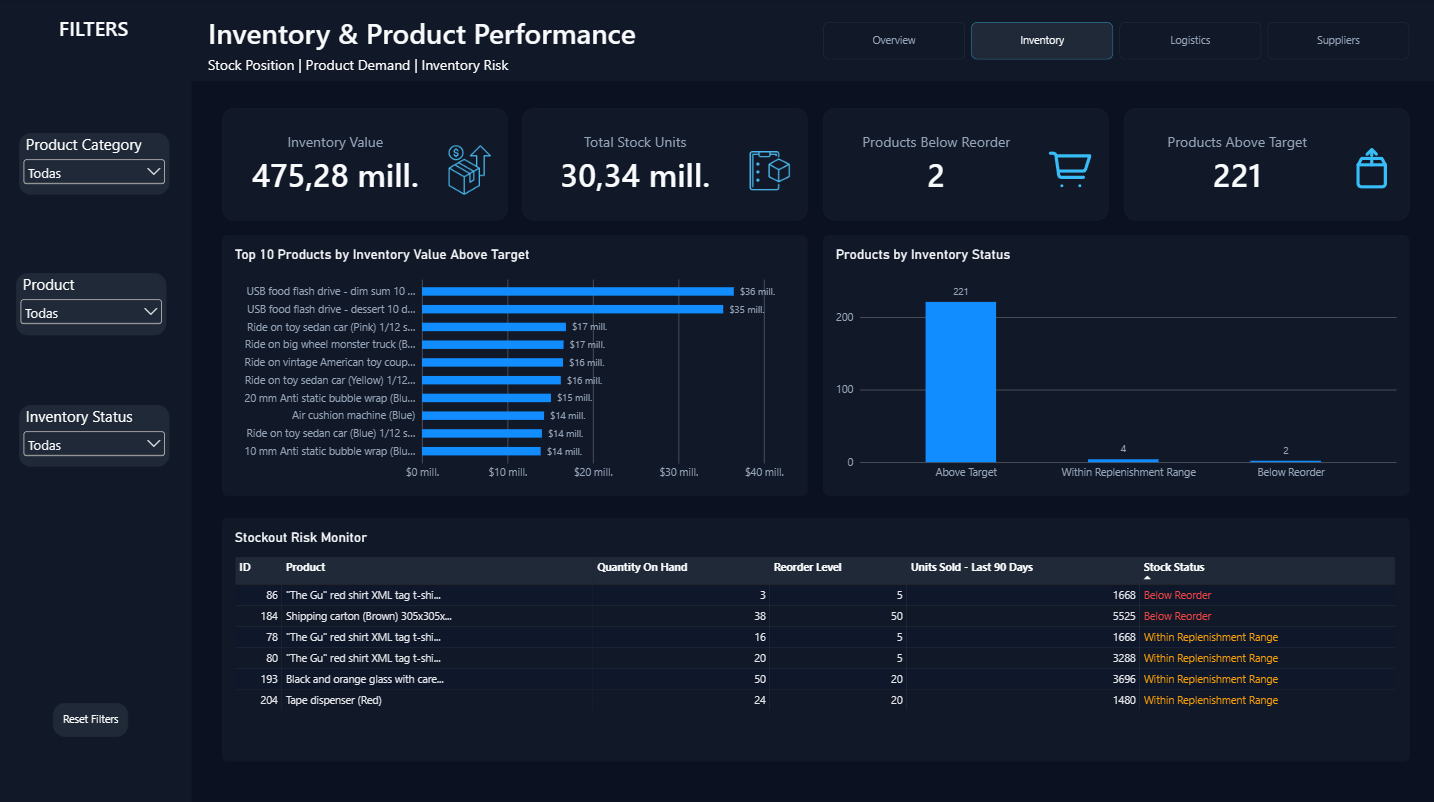

This screenshot's page, from the dashboard's own definition file:
{"tool":"powerbi","page":{"name":"Inventory","canvas":[1920,1080],"ordinal":1},"visuals":[{"type":"shape","box":[250.9,0,1669.1,109.1],"z":0},{"type":"textbox","box":[281.6,19.5,1079.8,55.4],"z":1000},{"type":"textbox","box":[281.6,74.9,1079.8,34.4],"z":2000},{"type":"shape","box":[0,1.5,260,1079],"z":3000},{"type":"textbox","box":[0,1.4,260,107.1],"z":4000},{"type":"slicer","fields":{"Values":[" dim_product.Product Short Name"]},"box":[27.1,364.3,200,82.9],"z":5000},{"type":"slicer","fields":{"Values":["fact_inventory.Inventory Status"]},"box":[30,540,200,82],"z":6000},{"type":"slicer","fields":{"Values":["dim_stock_group.stock_group_name"]},"box":[30,178.6,200,82],"z":7000},{"type":"cardVisual","fields":{"Data":["_Medidas.Inventory Value"]},"box":[300,145,380,150],"z":8000},{"type":"cardVisual","fields":{"Data":["_Medidas.Total Stock Units"]},"box":[700,145,380,150],"z":9000},{"type":"cardVisual","fields":{"Data":["_Medidas.Products Below Reorder"]},"box":[1100,145,380,150],"z":10000},{"type":"cardVisual","fields":{"Data":["_Medidas.Products Above Target"]},"box":[1500,145,380,150],"z":11000},{"type":"actionButton","title":"Reset Filters","box":[76.4,936.8,100.4,45],"z":12000},{"type":"pageNavigator","box":[1100,30,780,50],"z":13000},{"type":"barChart","title":"Top 10 Products by Inventory Value Above Target","fields":{"Category":[" dim_product.product_name"],"Y":["_Medidas.Excess Inventory Value"]},"box":[300,314.3,778.6,347.1],"z":14000},{"type":"tableEx","title":"Stockout Risk Monitor","fields":{"Values":[" dim_product.product_id"," dim_product.Product Short Name","Sum(fact_inventory.quantity_on_hand)","Sum(fact_inventory.reorder_level)","_Medidas.Units Sold - Last 90 Days","fact_inventory.Inventory Status"]},"box":[300,690,1580,324.3],"z":15000},{"type":"clusteredColumnChart","title":"Products by Inventory Status","fields":{"Category":["fact_inventory.Inventory Status"],"Y":["CountNonNull( dim_product.product_id)"]},"box":[1100,314.3,780,347.1],"z":16000}]}

Visuals, with their boxes in screenshot pixels (x1, y1, x2, y2), scaled from the page's 1920x1080 canvas onto the 1434x802 screenshot:
shape: box=[187, 0, 1433, 81]
textbox: box=[210, 14, 1017, 56]
textbox: box=[210, 56, 1017, 81]
shape: box=[0, 1, 194, 801]
textbox: box=[0, 1, 194, 81]
slicer -  dim_product.Product Short Name: box=[20, 271, 170, 332]
slicer - fact_inventory.Inventory Status: box=[22, 401, 172, 462]
slicer - dim_stock_group.stock_group_name: box=[22, 133, 172, 194]
cardVisual - _Medidas.Inventory Value: box=[224, 108, 508, 219]
cardVisual - _Medidas.Total Stock Units: box=[523, 108, 807, 219]
cardVisual - _Medidas.Products Below Reorder: box=[822, 108, 1105, 219]
cardVisual - _Medidas.Products Above Target: box=[1120, 108, 1404, 219]
"Reset Filters" actionButton: box=[57, 696, 132, 729]
pageNavigator: box=[822, 22, 1404, 59]
"Top 10 Products by Inventory Value Above Target" barChart: box=[224, 233, 806, 491]
"Stockout Risk Monitor" tableEx: box=[224, 512, 1404, 753]
"Products by Inventory Status" clusteredColumnChart: box=[822, 233, 1404, 491]
